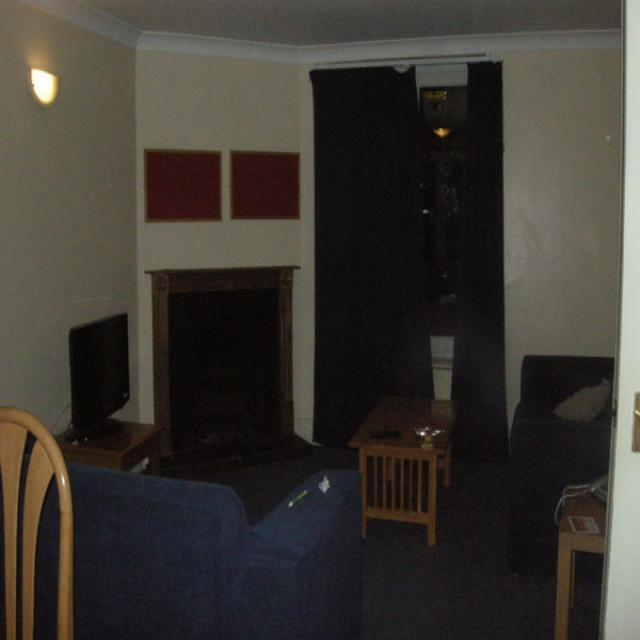Table: (353, 363, 478, 545), (541, 462, 621, 640), (48, 401, 177, 487)
chair: (0, 454, 381, 635), (502, 321, 624, 534), (0, 392, 77, 640)
